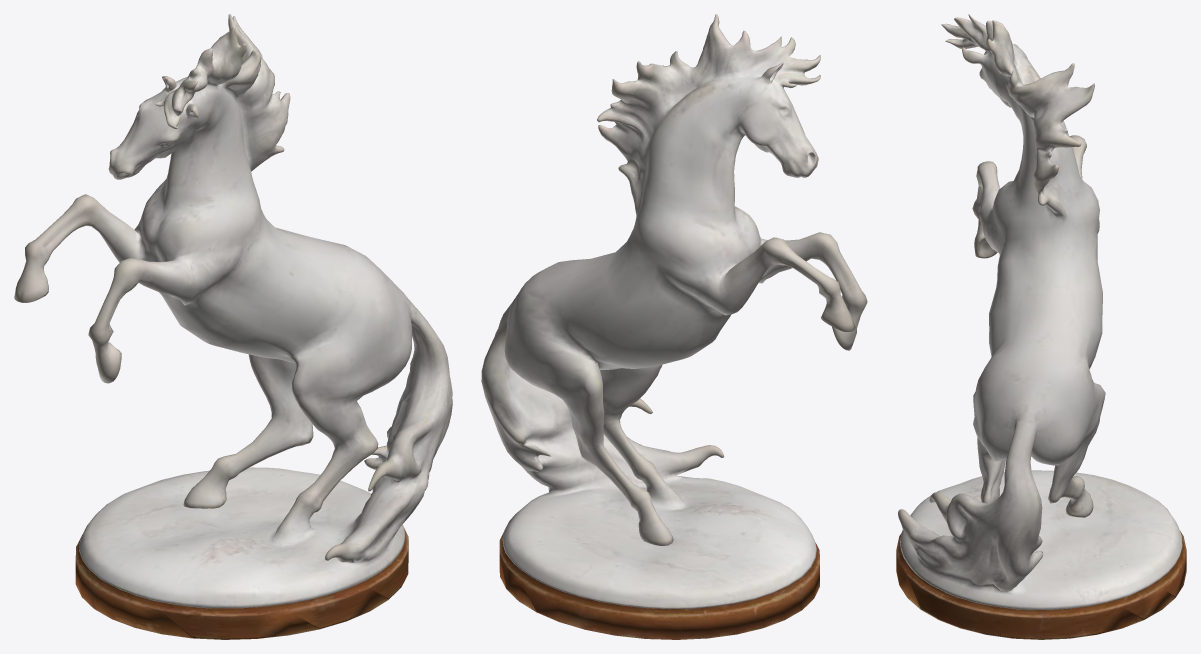
Rendered from horse_statue_01.glb.
3 views of the same model, side by side, from view 1: azimuth 30°, elevation 25°; view 2: azimuth 150°, elevation 25°; view 3: azimuth 270°, elevation 25° (orthographic). The views are drawn at different scales.
Parts seen in each view (by area): view 1: horse_statue_01; view 2: horse_statue_01; view 3: horse_statue_01.
Boxes of the visible parts, bbox=[...] form: horse_statue_01: bbox=[14, 14, 452, 639]; horse_statue_01: bbox=[481, 14, 867, 639]; horse_statue_01: bbox=[896, 14, 1186, 639].
Bounding box in the file's own units: 0.1638 × 0.22 × 0.1078.
Materials: 1 (1 with a texture image).
